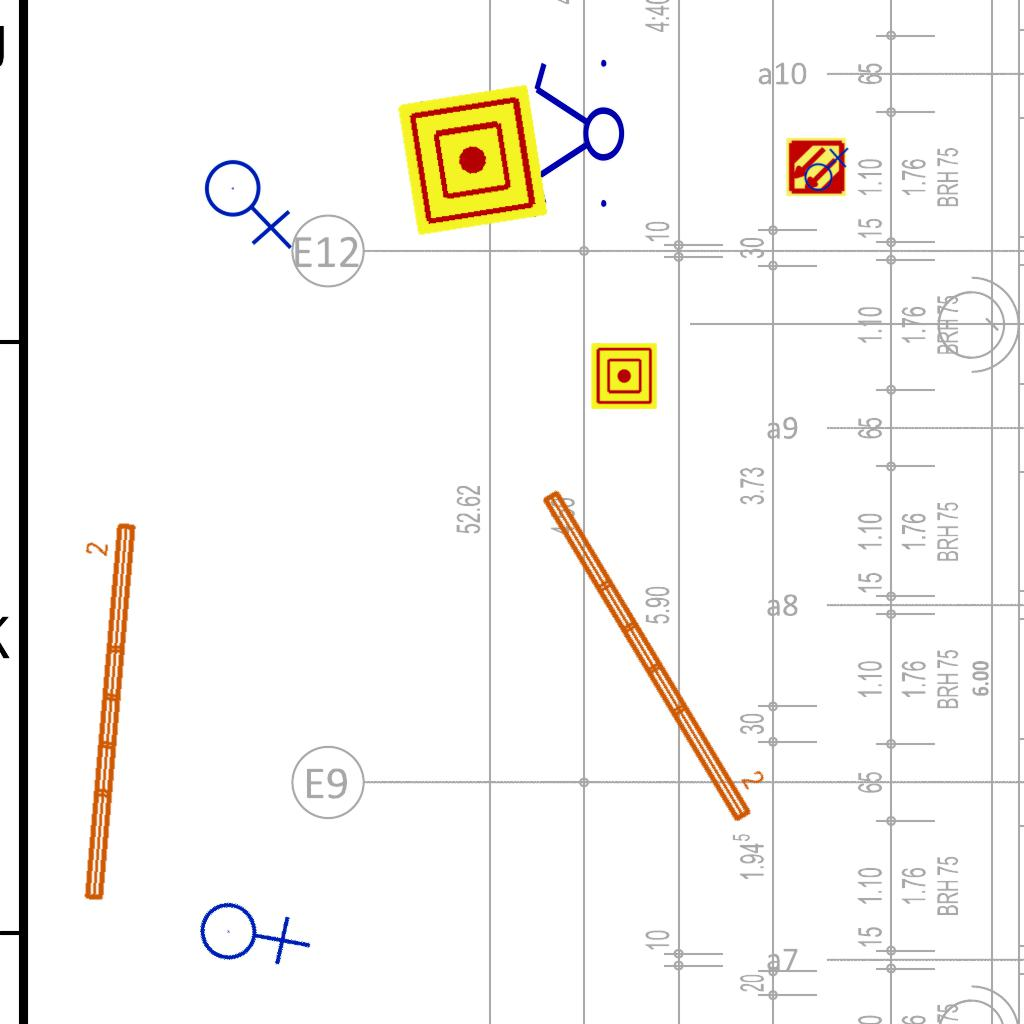ASR_Ansaugrauchmelder: (785, 136, 847, 198)
Ambulanz_Pendelleuchte_LED: (533, 468, 782, 830), (52, 515, 143, 907)
Elektroanschluss_allgemein_230V_Geraeteanschlussdose_230V: (182, 863, 317, 999), (203, 151, 297, 250), (800, 145, 849, 192)
NAM-Nichtautomatischer_Melder: (397, 84, 549, 236), (591, 343, 657, 409)
Serienschalter: (530, 51, 626, 219)
